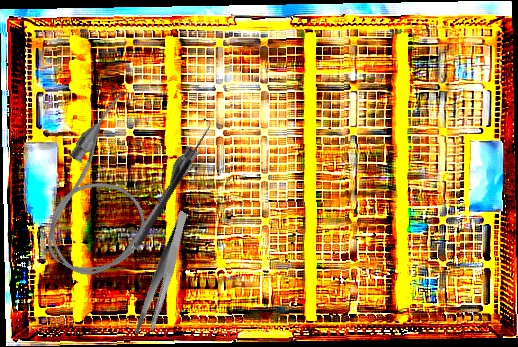Cannula: (18, 85, 206, 295)
Dressing Forceps: (109, 210, 218, 340)
Hook Surgical: (127, 117, 215, 250)
